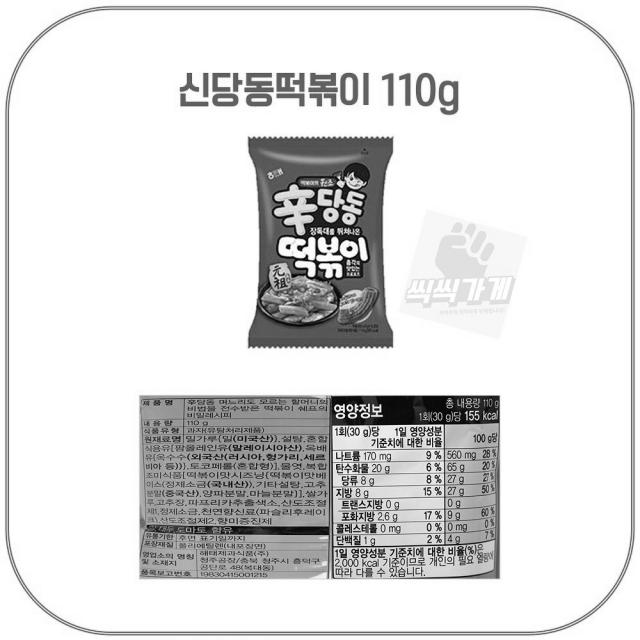Nutrition Label: (327, 391, 503, 583)
